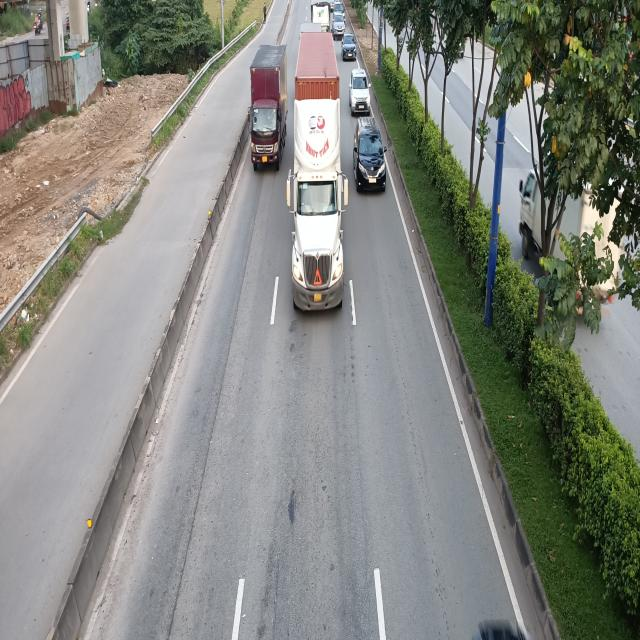car: (354, 117, 387, 193), (348, 70, 371, 116), (342, 32, 359, 62), (331, 13, 345, 36)
container: (287, 32, 346, 313)
truck: (248, 43, 285, 174)
